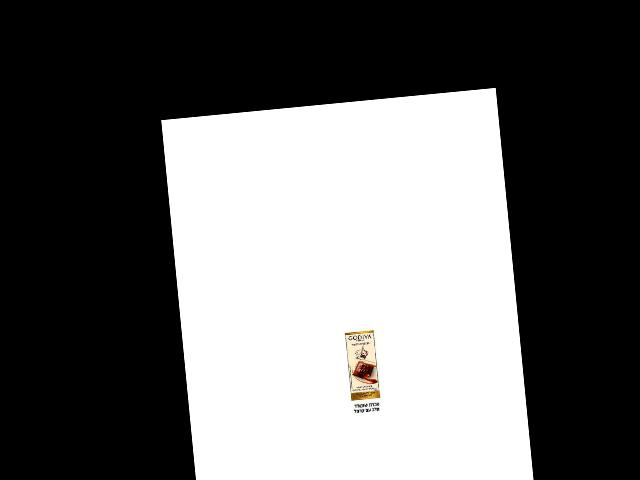chocolate: (345, 328, 382, 403)
